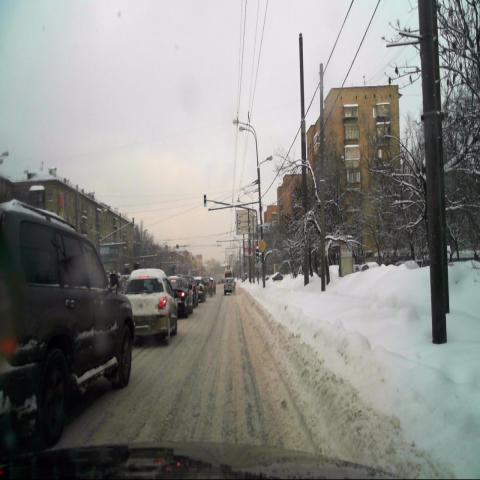2_1: (259, 239, 266, 252)
